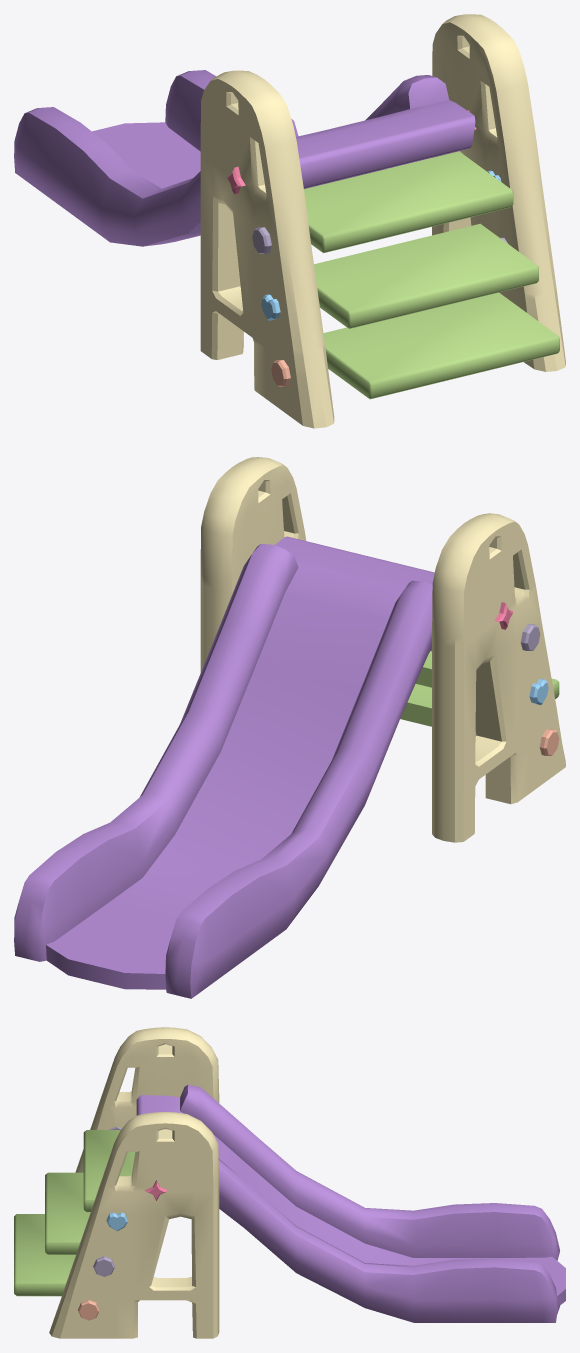
The model's file is kindergarten_asset_slide.fbx.
The picture shows the model from 3 angles, top to bottom: view 1: azimuth 30°, elevation 25°; view 2: azimuth 150°, elevation 25°; view 3: azimuth 270°, elevation 25°; orthographic projection. The views are drawn at different scales.
Parts seen in each view (by area): view 1: slide_frame, slide, stair03, stair02, stair01; view 2: slide, slide_frame, stair03; view 3: slide, slide_frame, stair03, stair02, stair01.
Boxes of the visible parts, left/top/right/bottom form: slide_frame: left=200, top=14, right=565, bottom=428; slide: left=14, top=70, right=475, bottom=246; stair03: left=323, top=292, right=559, bottom=399; stair02: left=314, top=223, right=538, bottom=328; stair01: left=304, top=151, right=513, bottom=253; slide: left=14, top=536, right=434, bottom=998; slide_frame: left=200, top=457, right=565, bottom=842; stair03: left=400, top=678, right=559, bottom=726; slide: left=136, top=1084, right=565, bottom=1322; slide_frame: left=49, top=1027, right=219, bottom=1338; stair03: left=14, top=1214, right=75, bottom=1296; stair02: left=45, top=1172, right=90, bottom=1254; stair01: left=83, top=1130, right=135, bottom=1212.
Bounding box in the file's own units: 129 × 131 × 300.
Materials: 1 (1 with a texture image).
